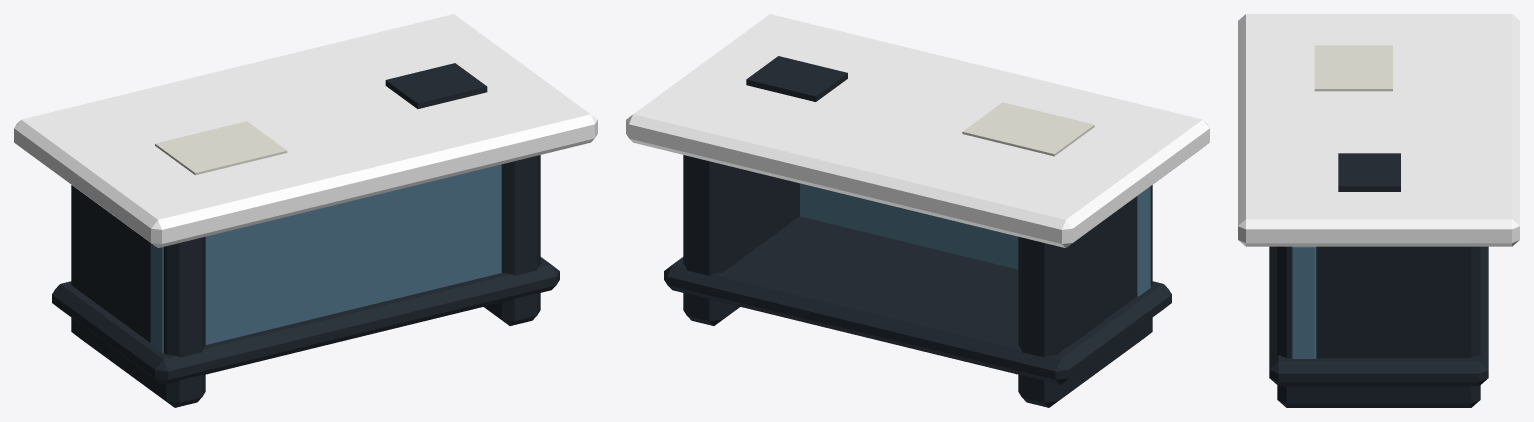
The model's file is desk.glb.
3 views of the same model, side by side, from view 1: azimuth 30°, elevation 25°; view 2: azimuth 150°, elevation 25°; view 3: azimuth 270°, elevation 25° (orthographic). The views are drawn at different scales.
Visible parts, largest first — view 1: beret/table; view 2: beret/table; view 3: beret/table.
Boxes of the visible parts, x1=… form: beret/table: x1=14, y1=14, x2=597, y2=407; beret/table: x1=626, y1=14, x2=1209, y2=407; beret/table: x1=1238, y1=14, x2=1519, y2=407.
Bounding box in the file's own units: 1.6 × 0.75 × 0.9.
